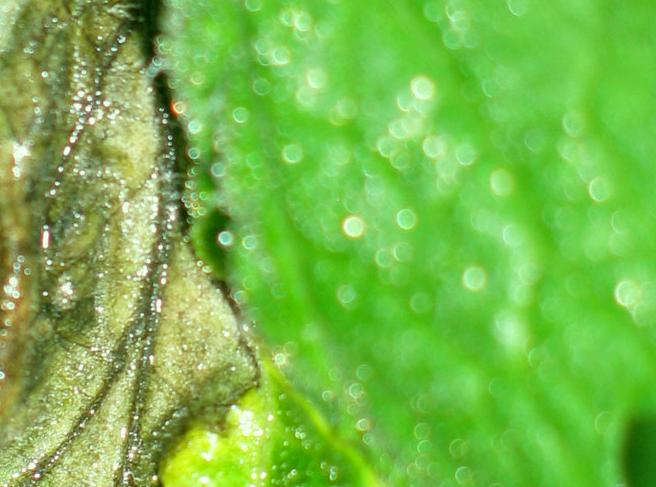Tomato leaf late blight: (0, 0, 648, 487)
